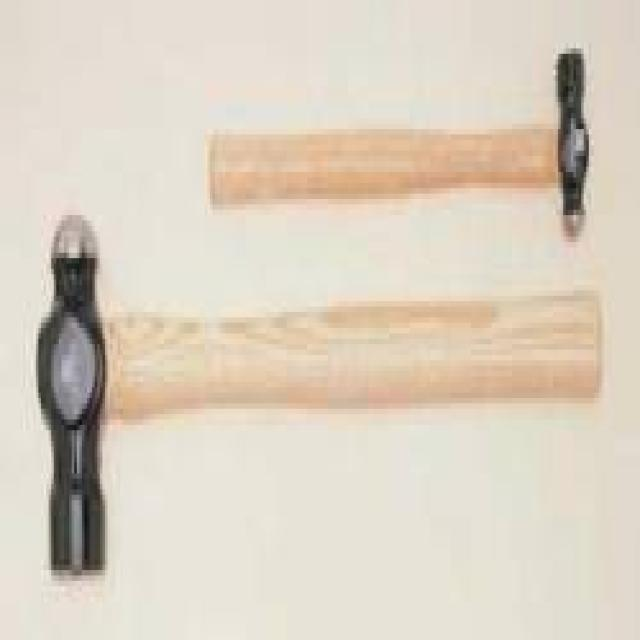hammer: (15, 172, 532, 640), (181, 31, 590, 258)
